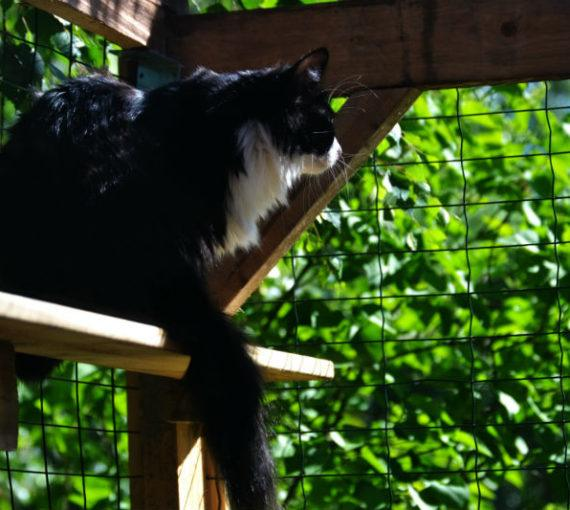cat: (1, 56, 344, 315)
